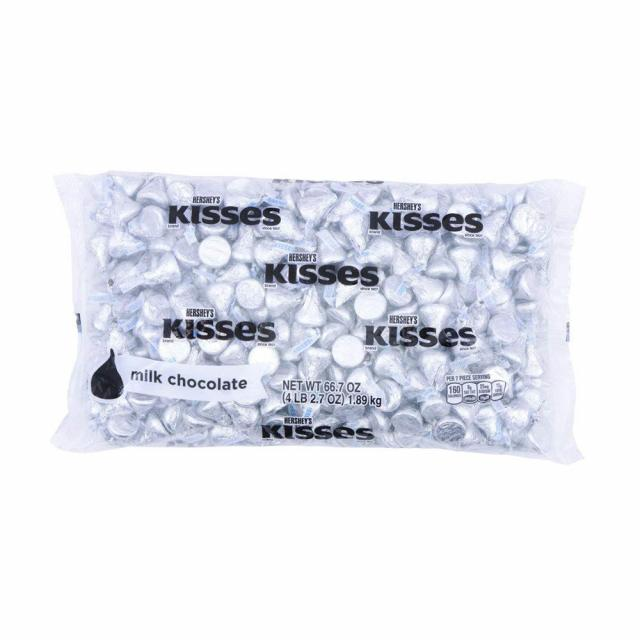kisses: (402, 268, 445, 307), (262, 278, 305, 317), (444, 244, 483, 285), (248, 234, 290, 272), (374, 346, 411, 389), (415, 381, 453, 422), (296, 190, 338, 226), (331, 332, 369, 370), (144, 252, 186, 286), (300, 342, 333, 383), (298, 287, 330, 328), (358, 233, 396, 267), (486, 312, 520, 350), (206, 280, 239, 319), (230, 226, 262, 266), (481, 270, 512, 310), (497, 398, 532, 432), (198, 235, 234, 268), (433, 410, 467, 444), (390, 402, 423, 436), (478, 208, 507, 246), (355, 289, 388, 322), (427, 245, 457, 278), (237, 278, 264, 310)
